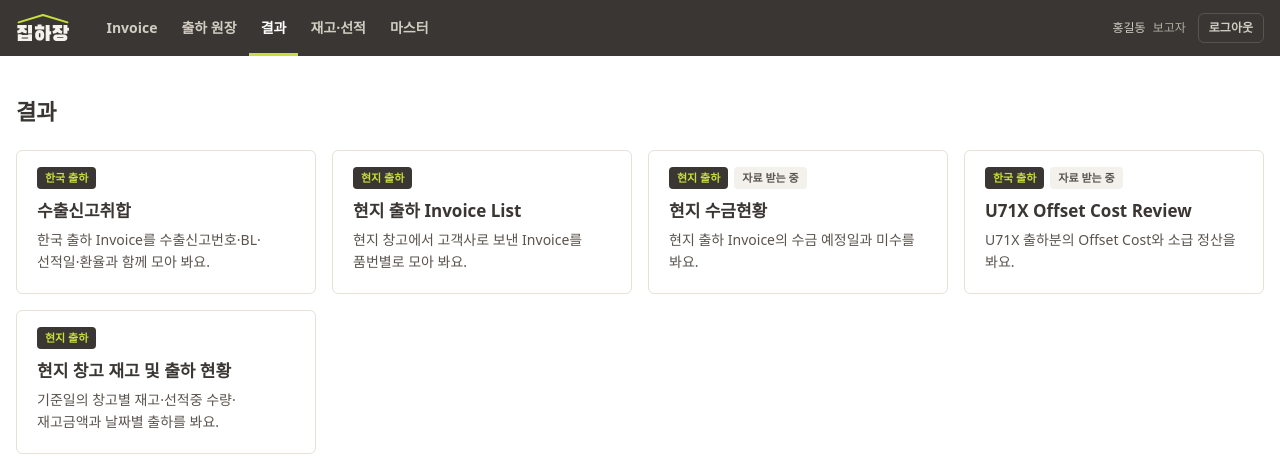
Test: 결과 목록에서 결과로 들어가고, 자료가 없는 결과는 그렇다고 말해요
This screenshot has width=1280, height=471.
Click the link "U71X Offset Cost Review" at (1114, 222), box x1=964 y1=150 x2=1264 y2=294
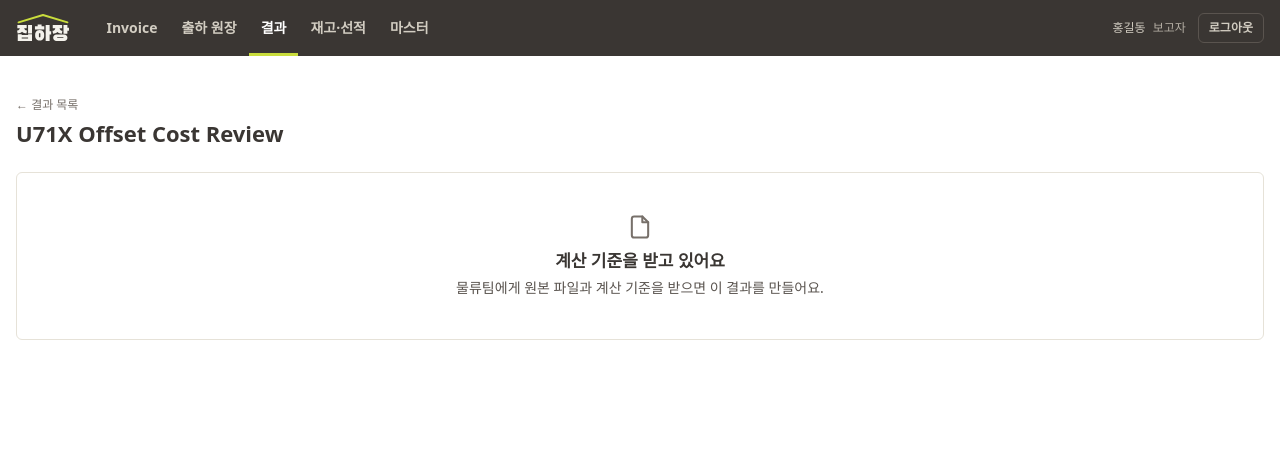
Expected: the heading "U71X Offset Cost Review" is shown, x1=16 y1=118 x2=284 y2=148
Expected: the heading "계산 기준을 받고 있어요" is shown, x1=555 y1=249 x2=725 y2=273
